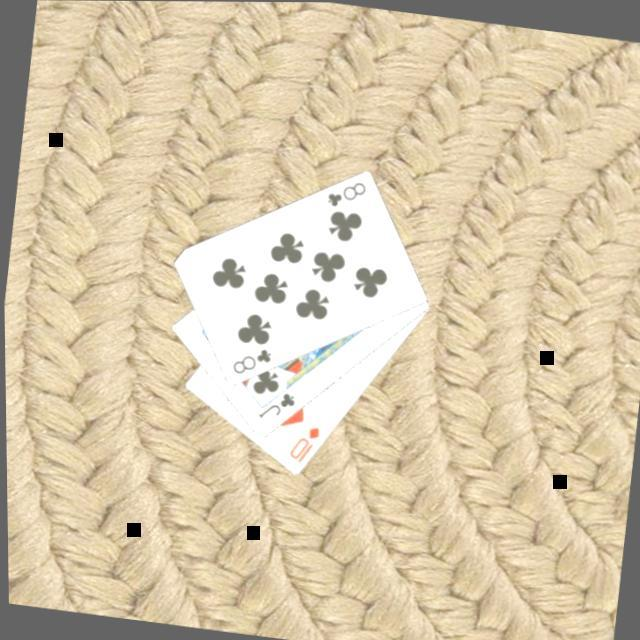10D: (284, 418, 325, 466)
8C: (228, 339, 276, 379), (322, 171, 370, 211)
JC: (254, 383, 300, 423)
